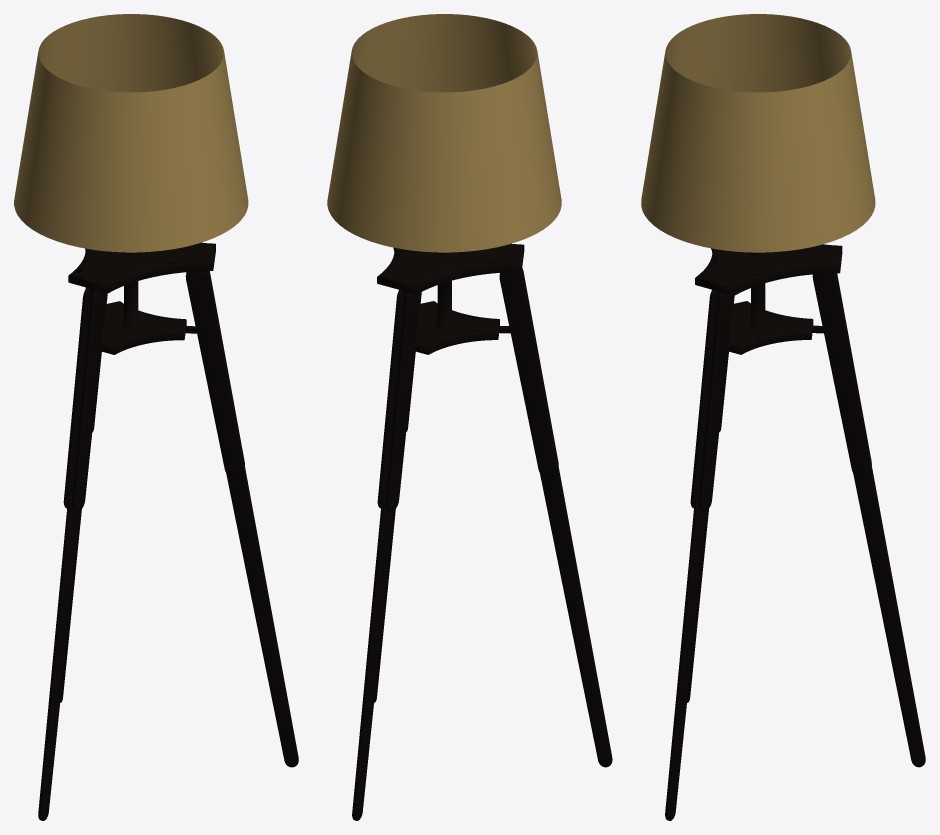
Rendered from lamp.obj.
The picture shows the model from 3 angles, left to right: view 1: azimuth 30°, elevation 25°; view 2: azimuth 150°, elevation 25°; view 3: azimuth 270°, elevation 25°; orthographic projection.
Parts seen in each view (by area): view 1: Object_10, Object_2; view 2: Object_10, Object_2; view 3: Object_10, Object_2.
Boxes of the visible parts, bbox=[...] form: Object_10: bbox=[14, 14, 248, 252]; Object_2: bbox=[38, 242, 298, 820]; Object_10: bbox=[327, 14, 561, 252]; Object_2: bbox=[352, 243, 612, 820]; Object_10: bbox=[641, 14, 875, 252]; Object_2: bbox=[665, 244, 925, 820].
Size of the model in its own units: 0.3078 by 0.8266 by 0.3003.
